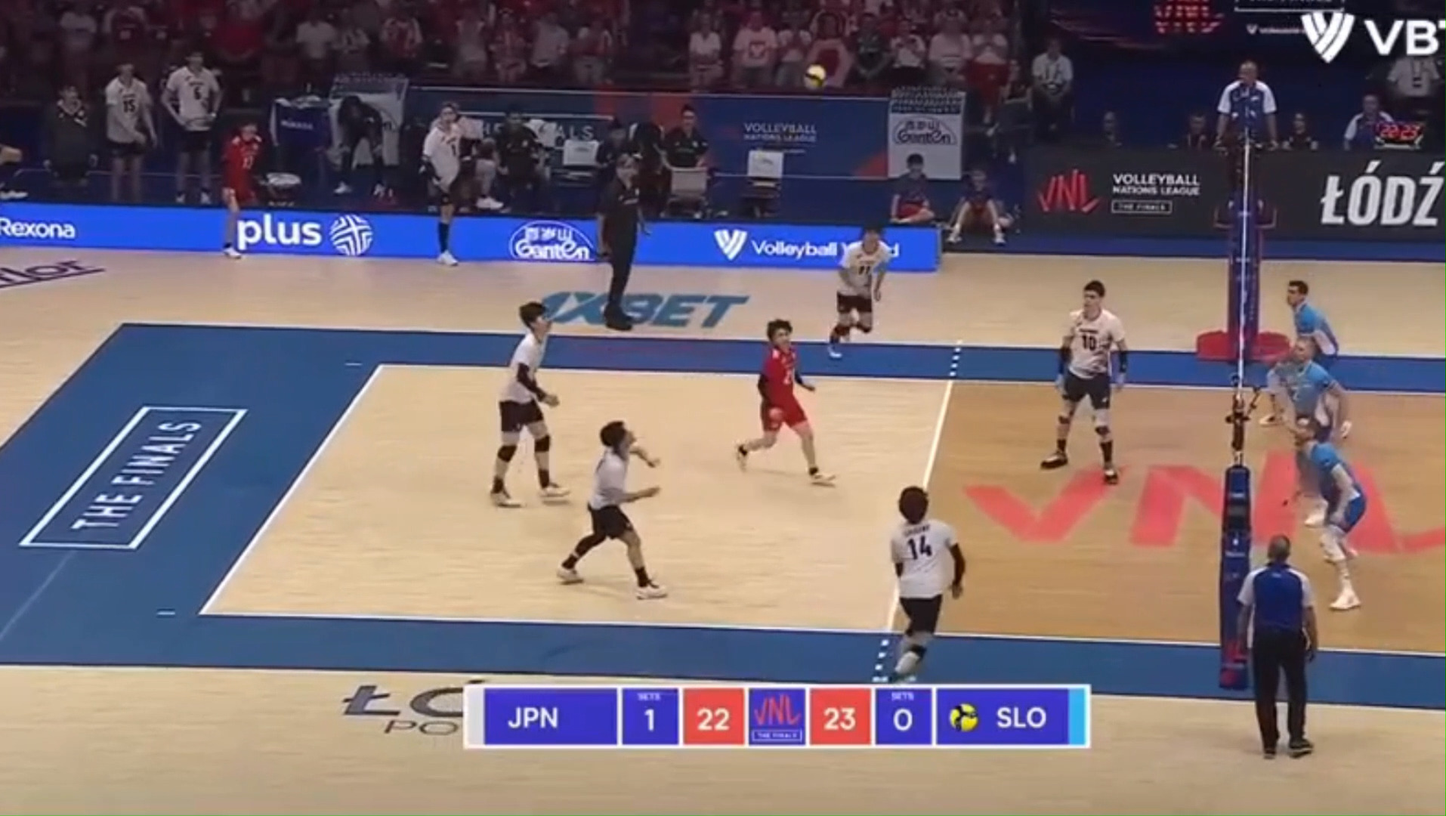ball: (803, 63, 827, 88)
player: (1295, 420, 1367, 610), (1278, 336, 1349, 440), (1287, 280, 1339, 368)
player 1: (558, 420, 666, 598), (1040, 280, 1128, 484), (734, 319, 831, 484), (489, 301, 567, 506), (888, 486, 966, 678), (828, 227, 893, 358)
referee: (1237, 535, 1319, 758), (1215, 60, 1277, 230), (598, 154, 646, 330)
